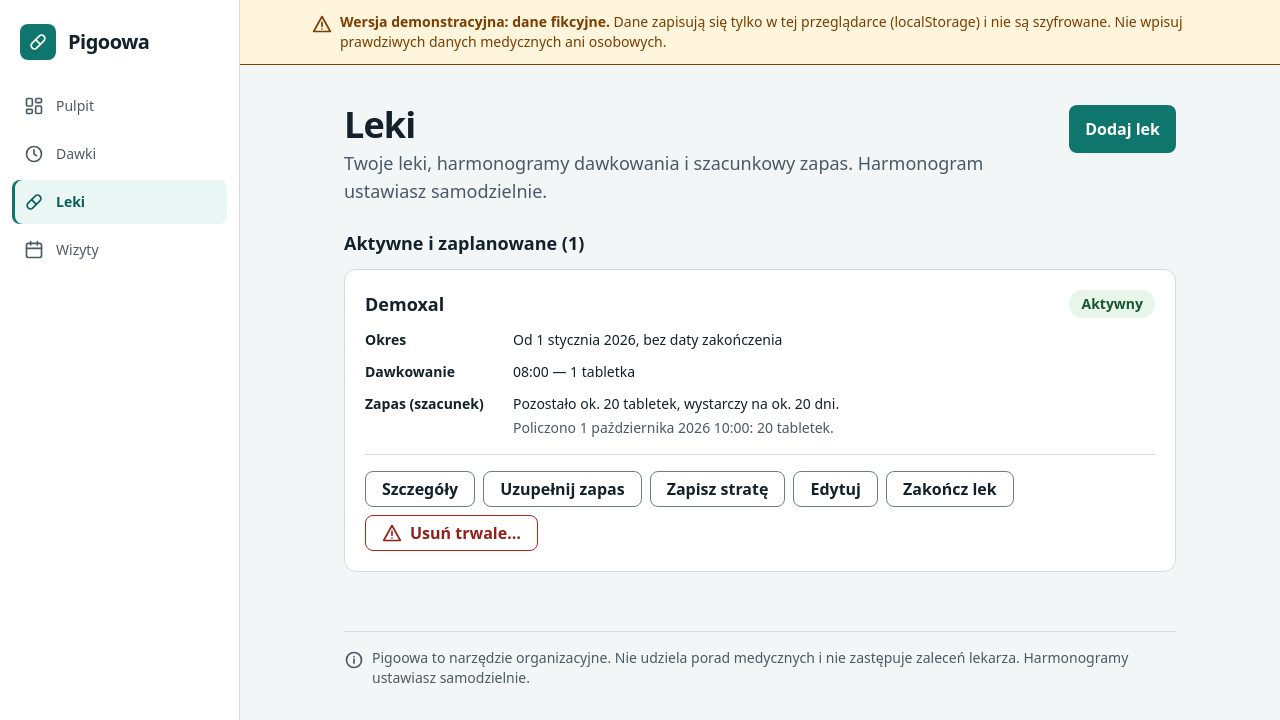
Test case: the waste action › records one waste event after the confirmation, and the estimate and the history follow
Check: the text "Pozostało ok. 20 tabletek, wystarczy na ok. 20 dni." is shown, box [513, 394, 839, 414]
Click the button named "Zapisz stratę leku Demoxal" at [718, 489], box [650, 471, 786, 507]
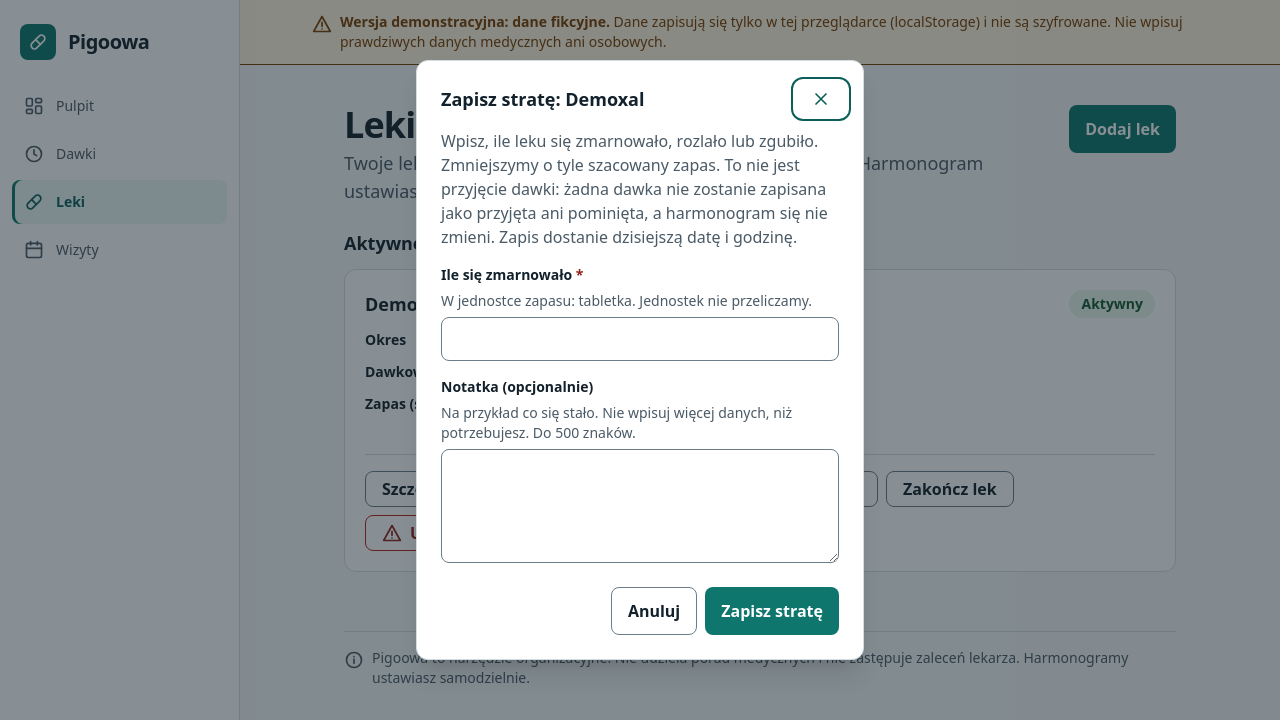
Check: the text "To nie jest przyjęcie dawki" is shown, box [441, 130, 828, 248]
Check: the text "W jednostce zapasu: tabletka. Jednostek nie przeliczamy." is shown, box [441, 291, 839, 311]
Type "2,5" into the field labelled "Ile się zmarnowało *" at [640, 339], box [441, 317, 839, 361]
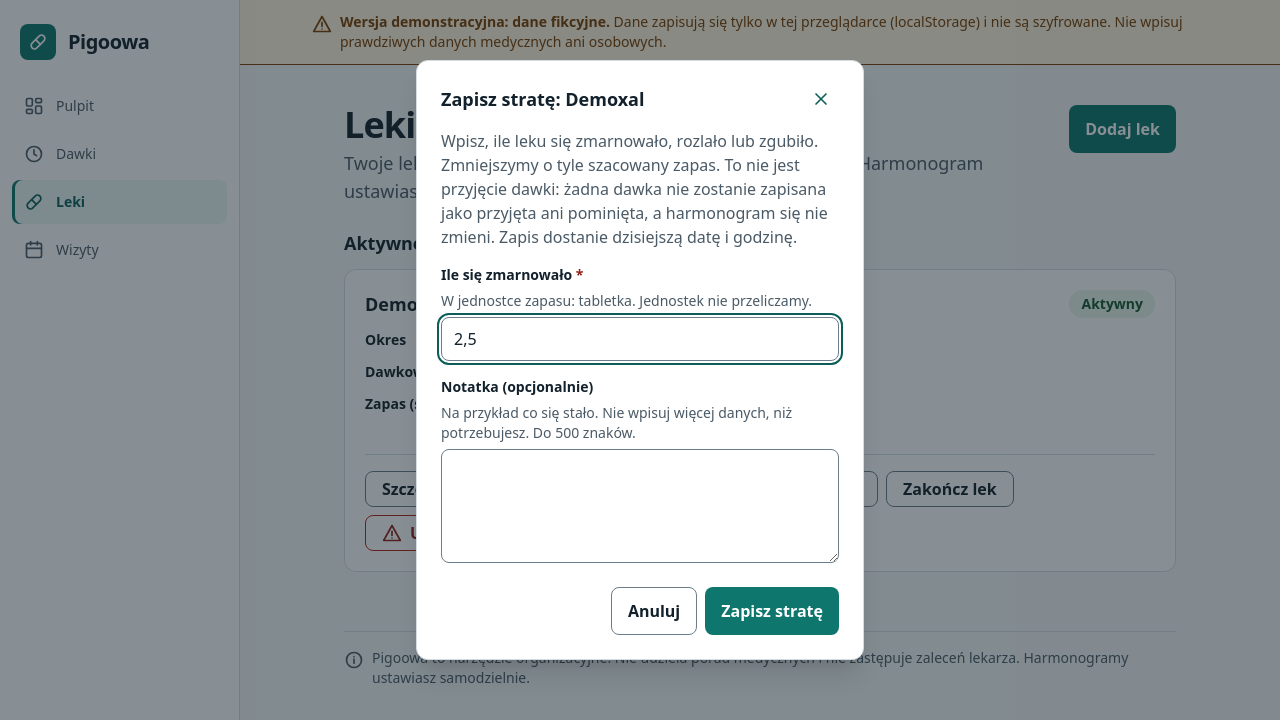
Type "Wypadły do zlewu" into the text box labelled "Notatka (opcjonalnie)" at [640, 506], box [441, 449, 839, 563]
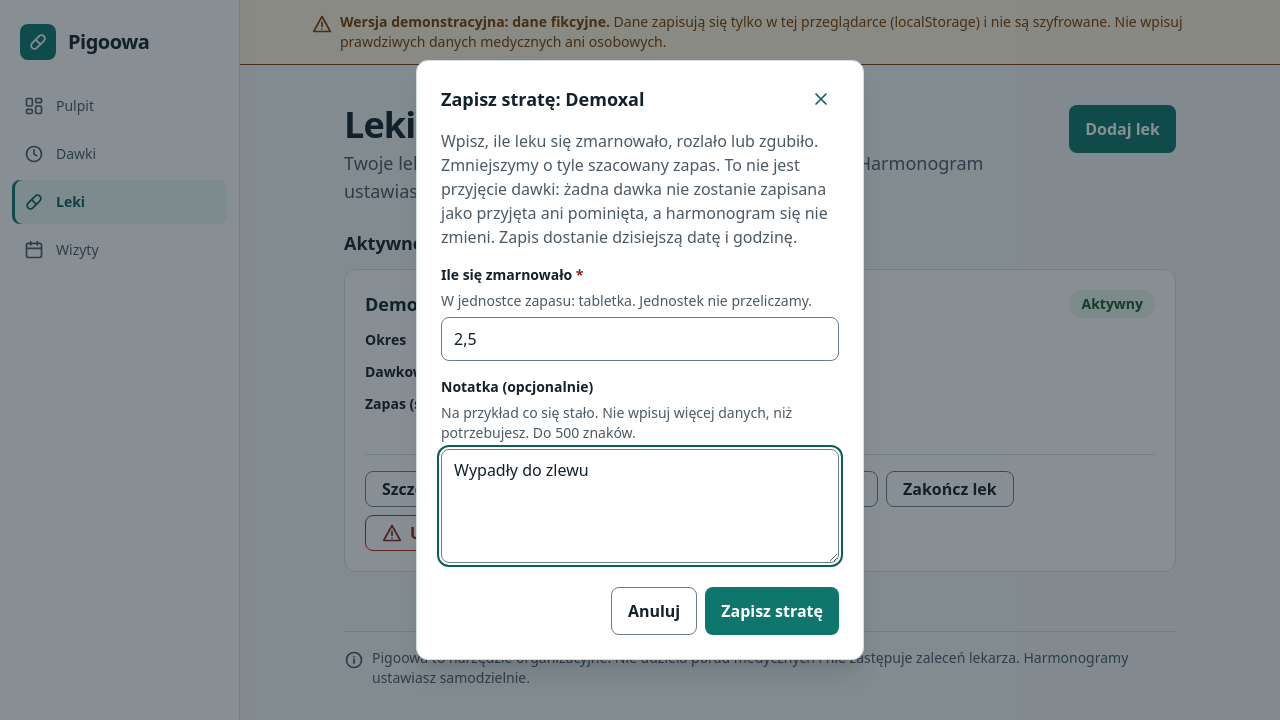
Click the button "Zapisz stratę" at [772, 611], box [705, 587, 839, 635]
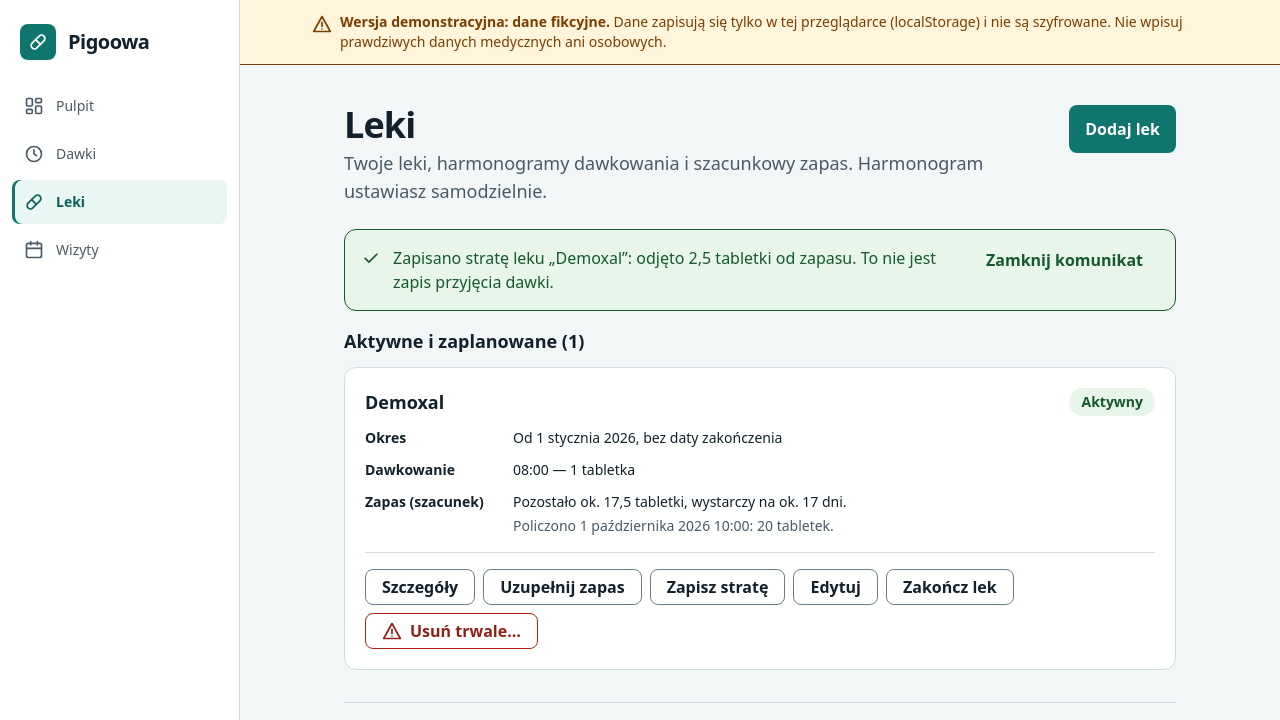
Check: the text "Zapisano stratę leku „Demoxal”: odjęto 2,5 tabletki od zapasu. To nie jest zapis przyjęcia dawki." is shown, box [393, 247, 936, 293]
Check: the text "Pozostało ok. 17,5 tabletki, wystarczy na ok. 17 dni." is shown, box [513, 492, 847, 512]
Check: the dialog is gone
